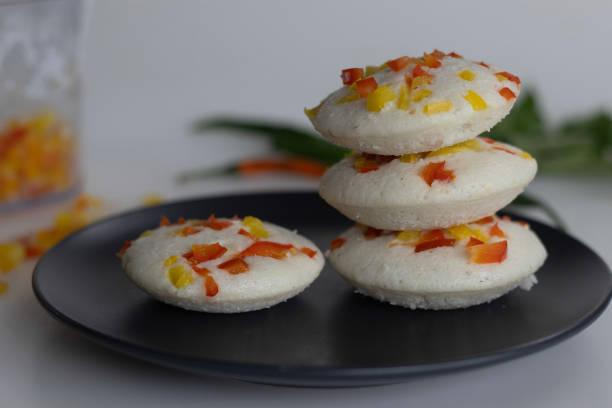idli: (320, 62, 536, 312), (117, 212, 321, 312)
